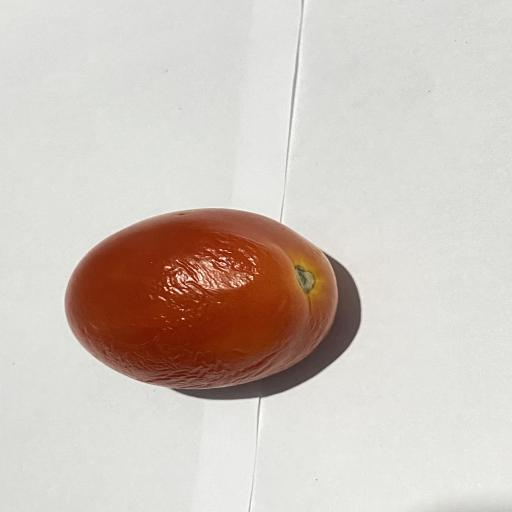spoiled: (66, 209, 338, 389)
